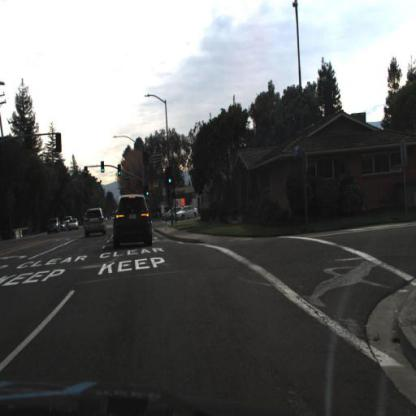car: (113, 193, 153, 249), (83, 208, 108, 239), (173, 205, 200, 222), (48, 218, 61, 234), (68, 218, 80, 233)
trafficLight-Green: (168, 171, 174, 188), (101, 161, 106, 174), (119, 164, 123, 177)
trafficLight-GreenLeft: (84, 165, 89, 181)
